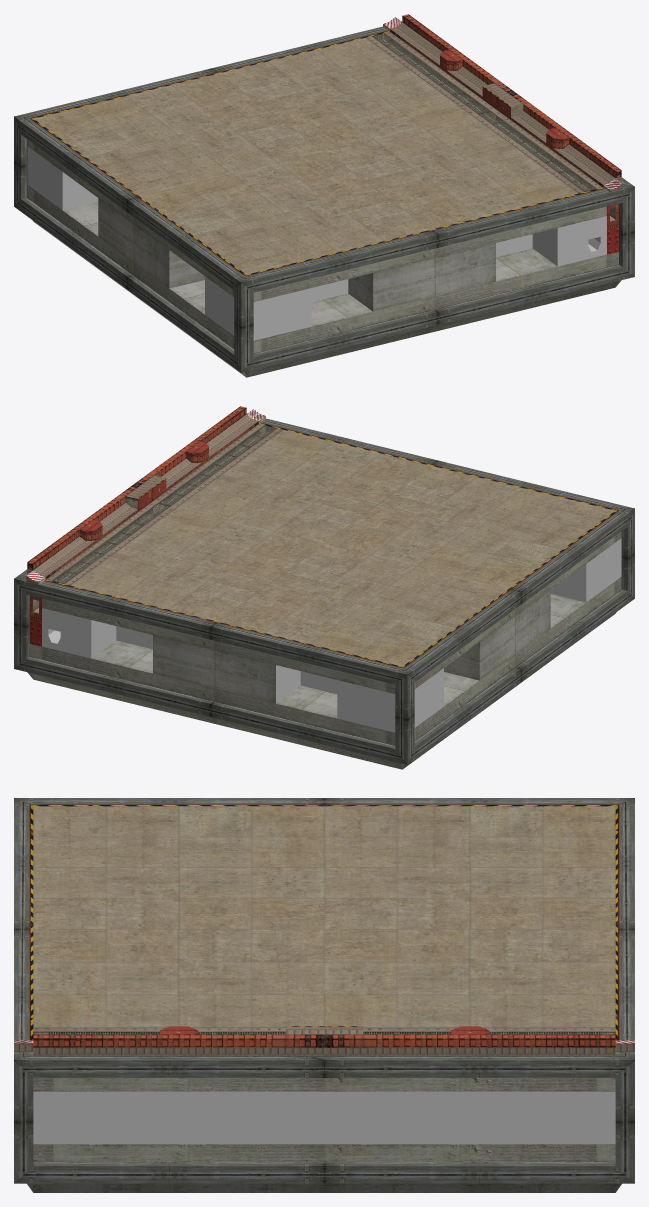
Rendered from WTP_H_RB.fbx.
The picture shows the model from 3 angles, top to bottom: view 1: azimuth 30°, elevation 25°; view 2: azimuth 150°, elevation 25°; view 3: azimuth 270°, elevation 25°; orthographic projection. The views are drawn at different scales.
Visible parts, largest first — view 1: WTP_H_RB_Lod0; view 2: WTP_H_RB_Lod0; view 3: WTP_H_RB_Lod0.
Boxes of the visible parts, <box> form: WTP_H_RB_Lod0: <box>14,14,634,377</box>; WTP_H_RB_Lod0: <box>14,406,634,769</box>; WTP_H_RB_Lod0: <box>14,798,634,1192</box>.
Size of the model in its own units: 32 by 9 by 32.
